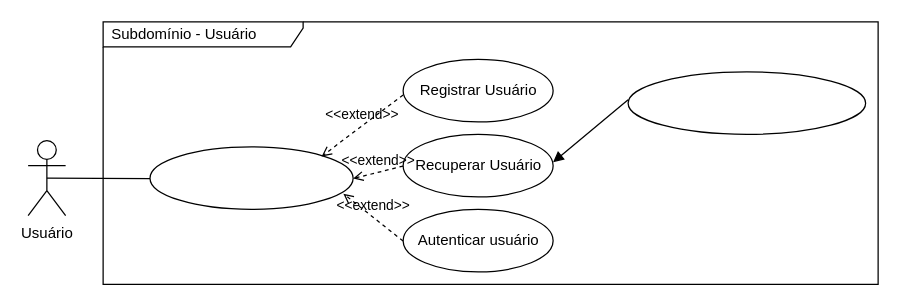
Some shapes in this 900 by 306 pixel diagram are drawn without their labels. Each missing label, with the box of its shape:
Gerenciar Usuário: (149, 146, 353, 209)
Recuperar Usuário por Email: (627, 71, 866, 134)
